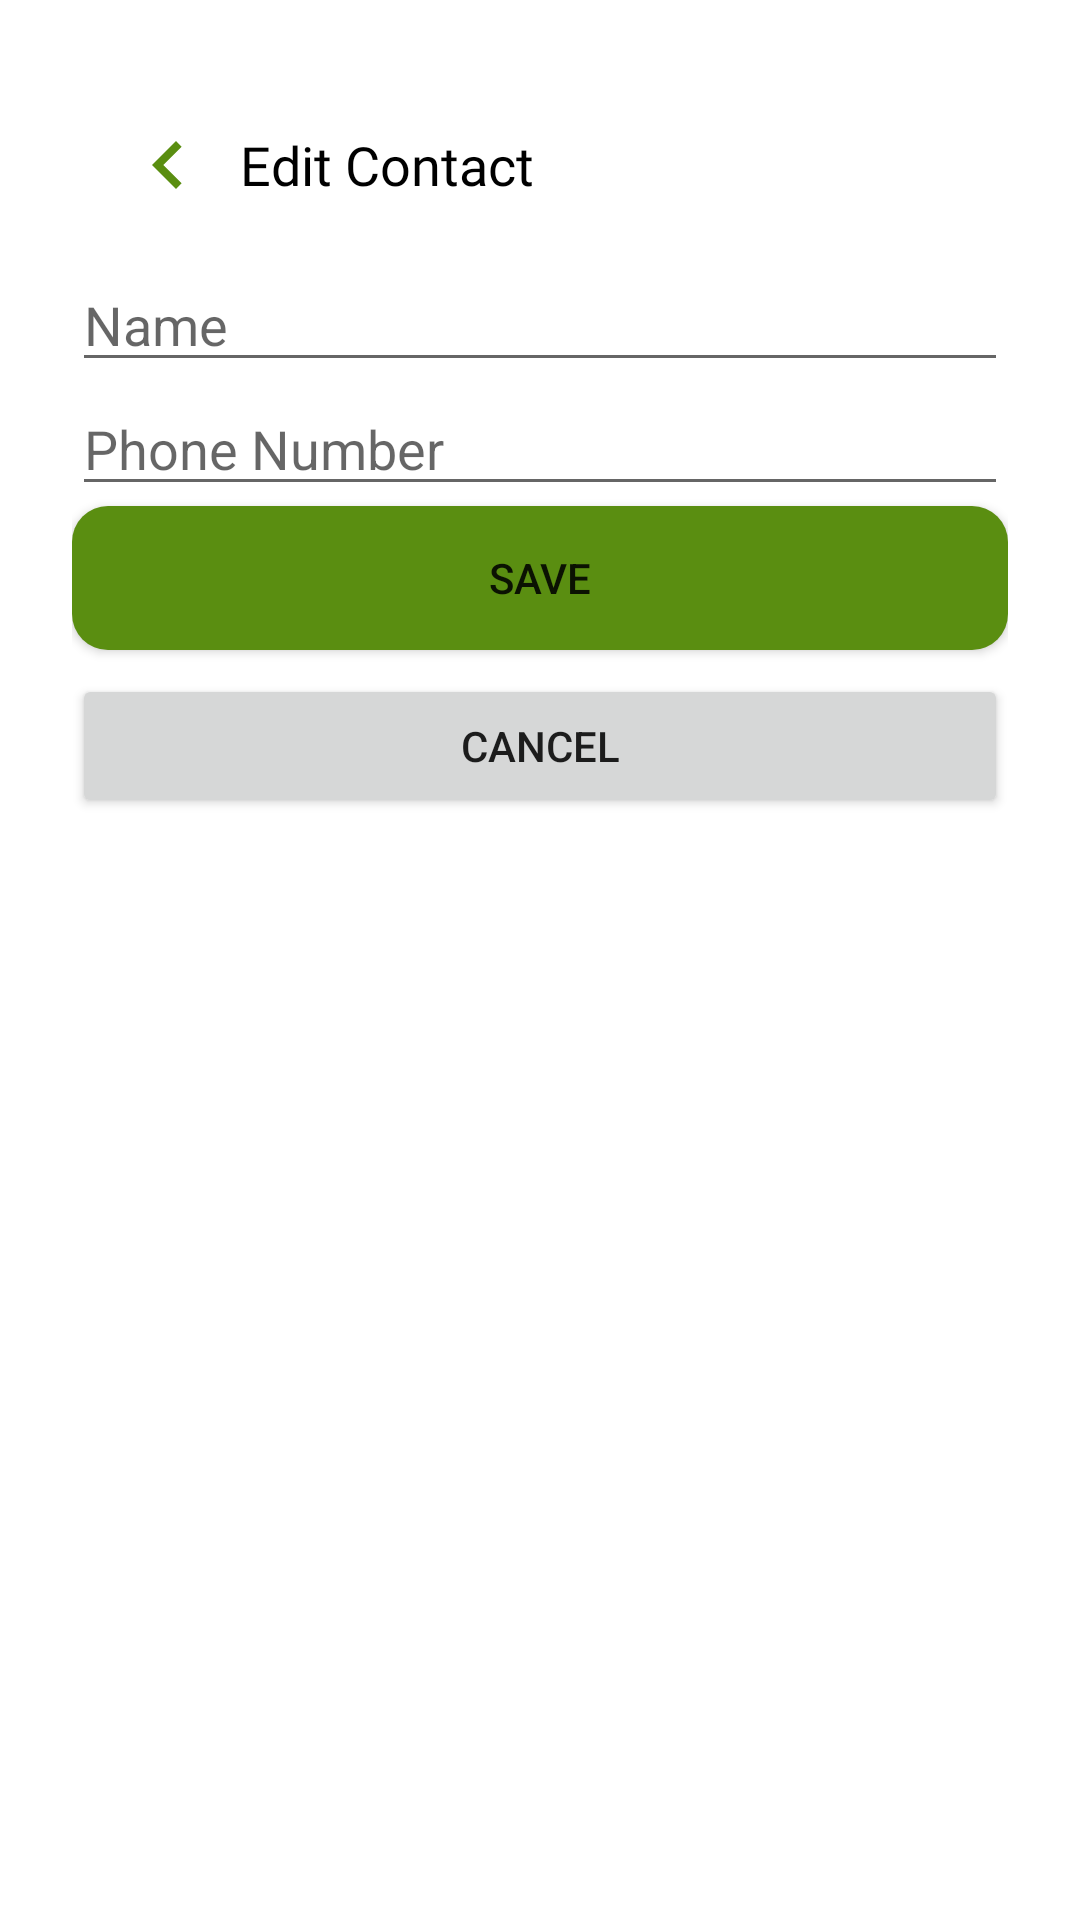

Where icons sit on this 1080 x 1920 app screen, as (x1, y1, x2, y2):
chevron left: (152, 141, 182, 189)
